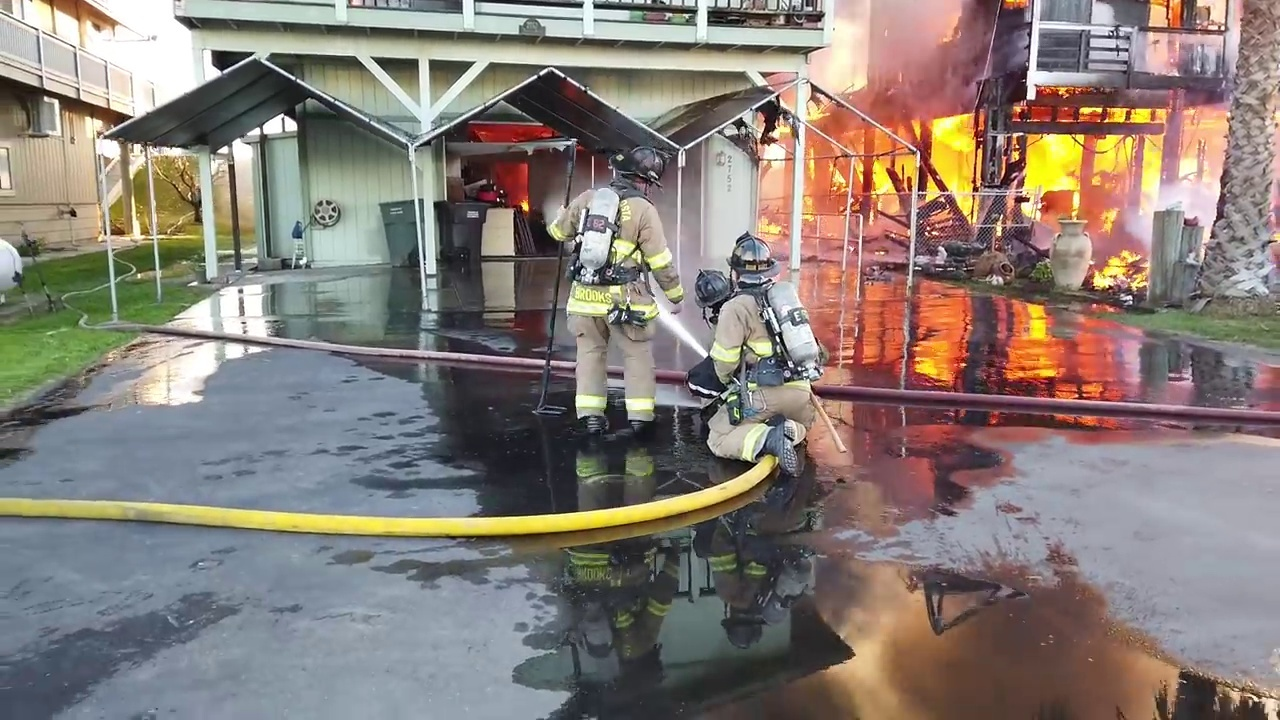fire: (797, 116, 1171, 217), (1030, 80, 1174, 131), (1087, 242, 1153, 294), (480, 162, 530, 217), (1148, 1, 1228, 27), (751, 209, 788, 242), (758, 137, 787, 172), (1098, 202, 1119, 233)
smoke: (822, 1, 996, 114), (805, 216, 918, 270), (1132, 178, 1218, 248)
